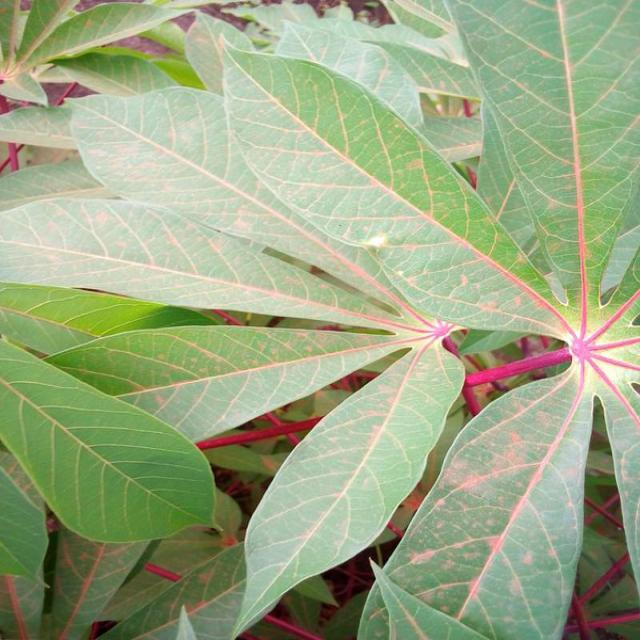cassava leaf: (2, 2, 638, 637), (232, 334, 467, 637), (357, 358, 596, 638), (2, 336, 218, 544)
